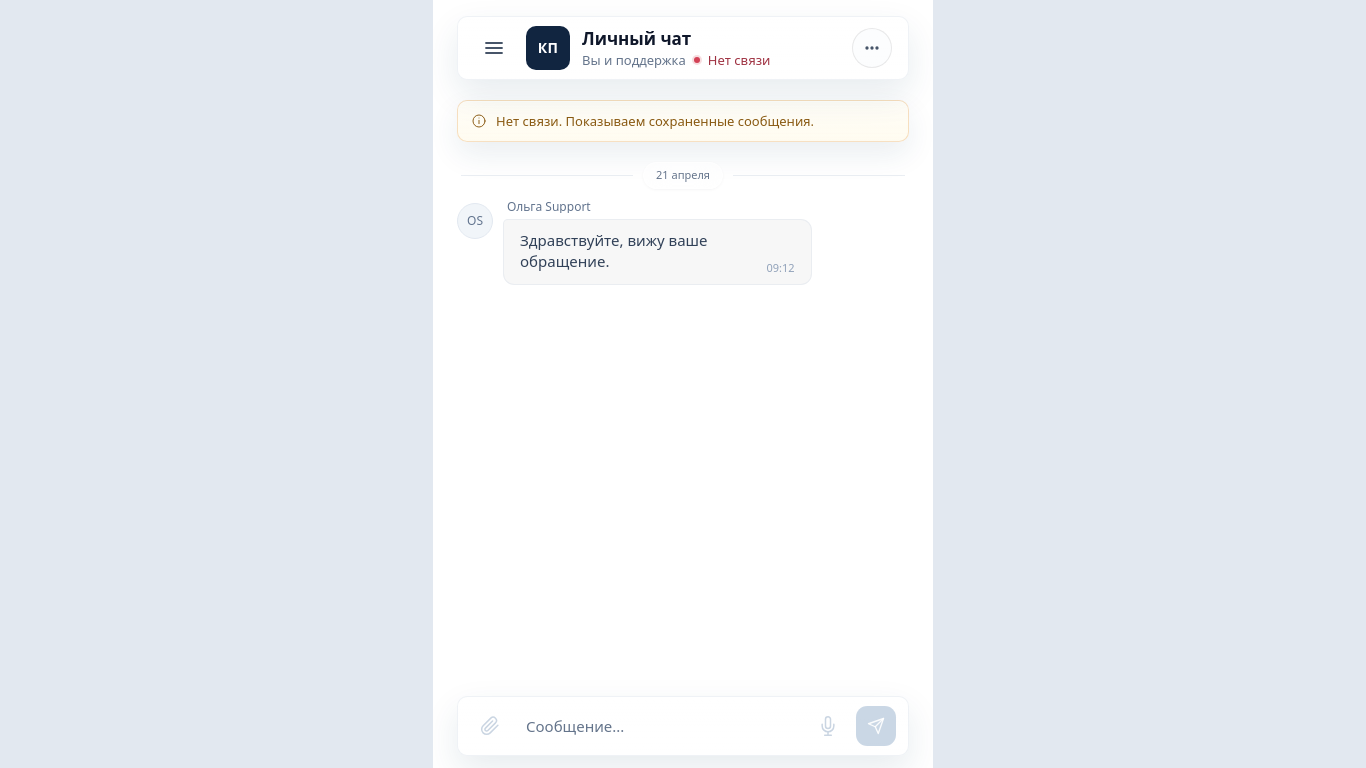
Test: ChatPage optimistic text send › queues text while offline and keeps the original client message key for later drain
Expected: the text "Здравствуйте, вижу ваше обращение." is shown, x1=520 y1=230 x2=712 y2=271
Type "Плохая связь" into the text box labelled "Сообщение".
click(659, 726); type("Плохая связь")  # box x1=518 y1=706 x2=800 y2=746
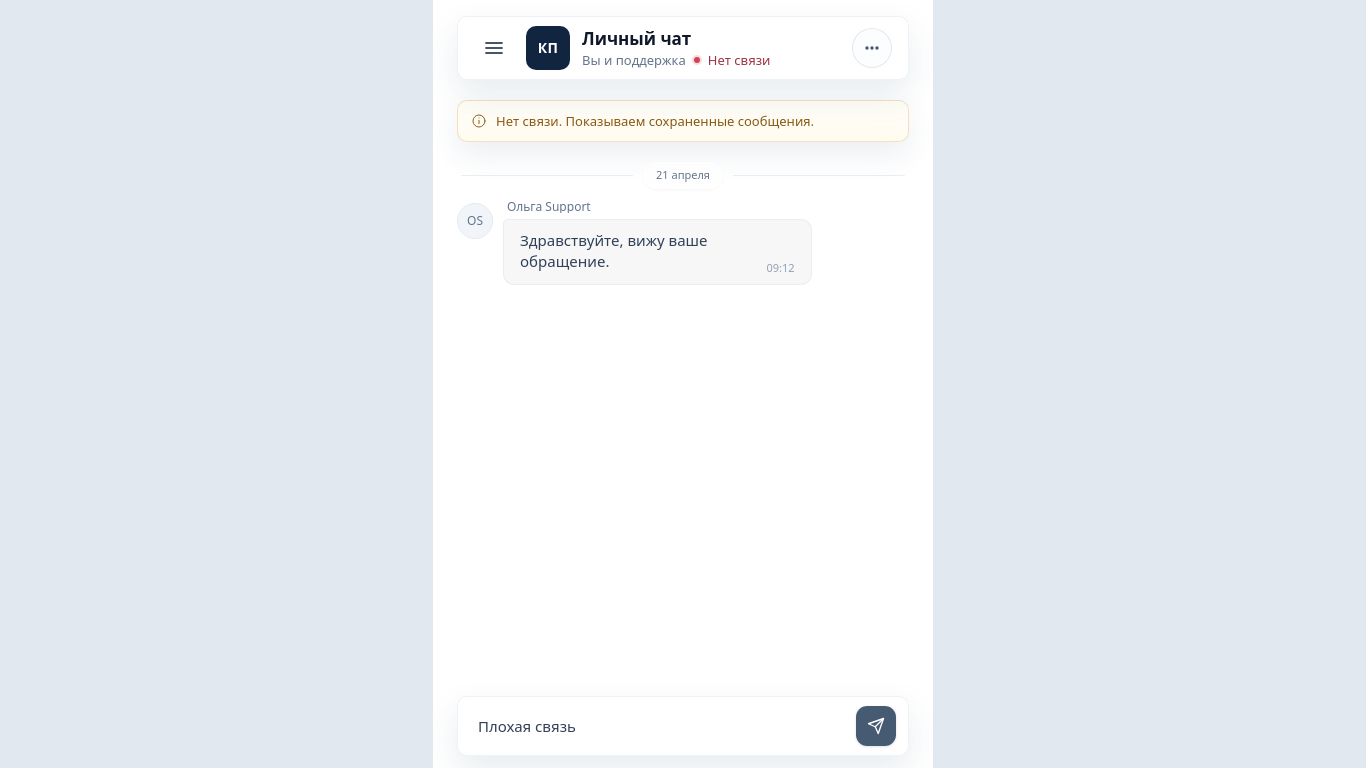
Click the button named "Отправить".
click(876, 726)  # box x1=856 y1=706 x2=896 y2=746
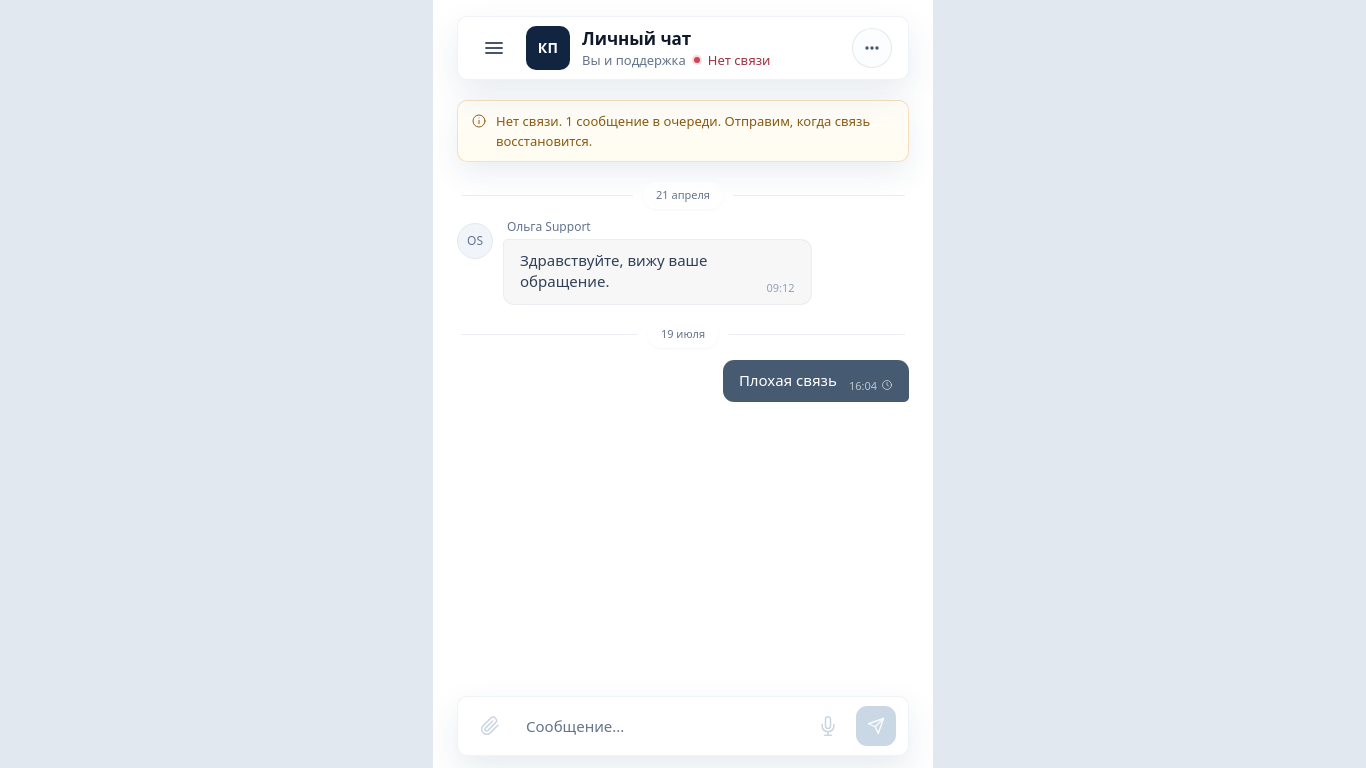
Expected: the text "Нет связи" is shown, x1=708 y1=52 x2=770 y2=68
Expected: the text "Нет связи. 1 сообщение в очереди. Отправим, когда связь восстановится." is shown, x1=496 y1=111 x2=896 y2=151
Expected: the element named "В очереди" is shown, x1=881 y1=379 x2=893 y2=391
